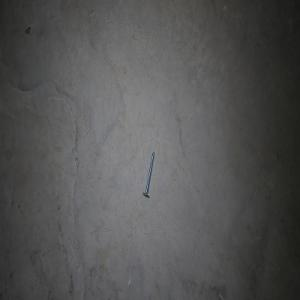Bolt: (142, 150, 154, 197)
